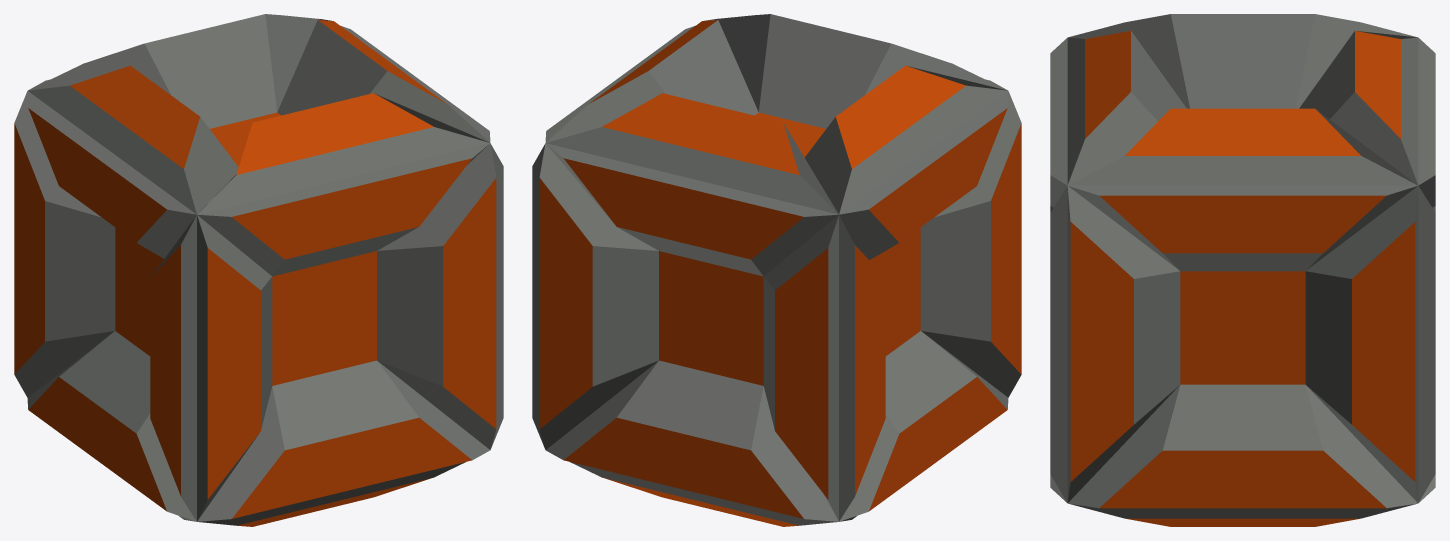
File: InfernithEssence.fbx
3 views of the same model, side by side, from view 1: azimuth 30°, elevation 25°; view 2: azimuth 150°, elevation 25°; view 3: azimuth 270°, elevation 25° (orthographic). The views are drawn at different scales.
Parts seen in each view (by area): view 1: Cube; view 2: Cube; view 3: Cube.
Boxes of the visible parts, x1,y1,x2,y2 form: Cube: (14, 14, 503, 526); Cube: (532, 14, 1021, 526); Cube: (1050, 14, 1435, 526).
Size of the model in its own units: 177 by 212 by 177.
